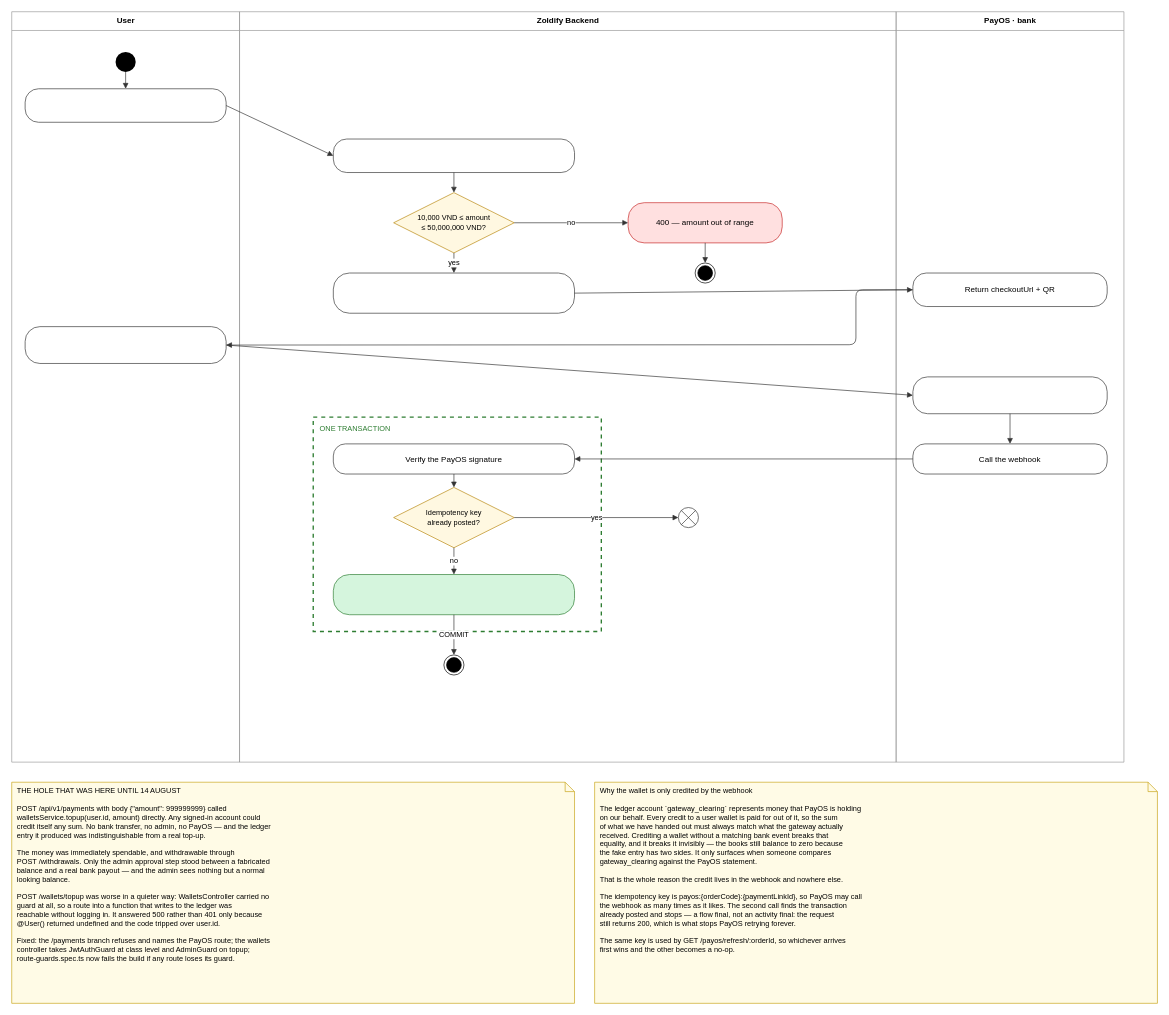
Some shapes in this 1169 by 1015 pixel diagram are drawn without their labels. The shapes that lost their labels are listed below. From the top down, each one's centre as x and y in pixels, then its label:
At [125,105]: "Enter an amount, press Top up".
At [454,155]: "POST /payos/create-link type = topup".
At [454,292]: "Ask PayOS for a link, save a PENDING payment WALLET_TOPUP · expires in 15 min".
At [125,344]: "Scan the QR and pay from the bank app".
At [1009,395]: "Money lands in the real bank account".
At [454,594]: "Post to the ledger gateway_clearing −X → user.available +X".
